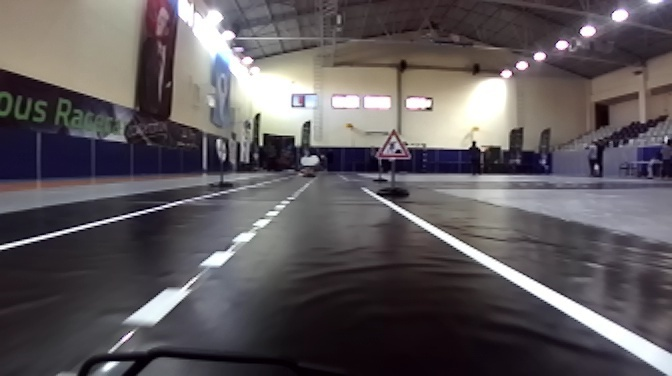yol_yapimi: (368, 131, 412, 158)
